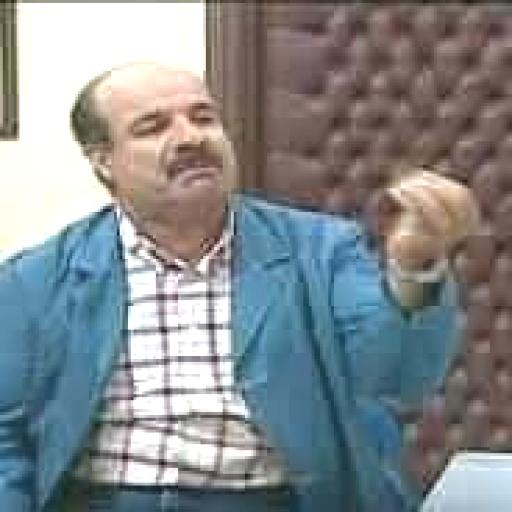beji_matrix: (70, 62, 237, 221)
